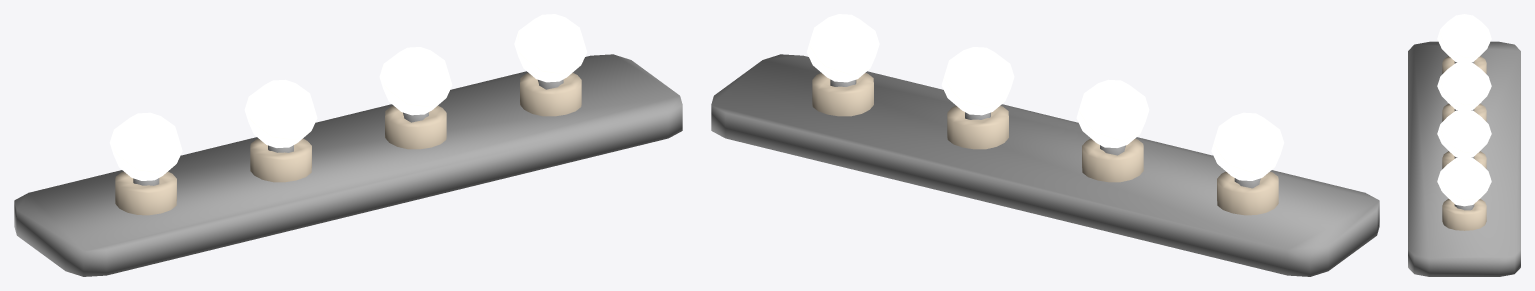
File: bathroomLights.glb
The picture shows the model from 3 angles, left to right: view 1: azimuth 30°, elevation 25°; view 2: azimuth 150°, elevation 25°; view 3: azimuth 270°, elevation 25°; orthographic projection. The views are drawn at different scales.
Visible parts, largest first — view 1: Cube, Cube.006, Cube.001, Cube.005; view 2: Cube, Cube.006, Cube.001, Cube.005; view 3: Cube, Cube.006, Cube.001, Cube.005.
Boxes of the visible parts, x1,y1,x2,y2 form: Cube: (14,54,682,276); Cube.006: (109,14,587,180); Cube.001: (115,72,581,215); Cube.005: (133,79,563,185); Cube: (711,54,1379,276); Cube.006: (806,14,1284,180); Cube.001: (812,72,1278,215); Cube.005: (830,79,1260,188); Cube: (1408,41,1520,276); Cube.006: (1437,14,1491,206); Cube.001: (1442,56,1486,230); Cube.005: (1454,61,1474,210).
Bounding box in the file's own units: 4.55 × 0.7941 × 1.
